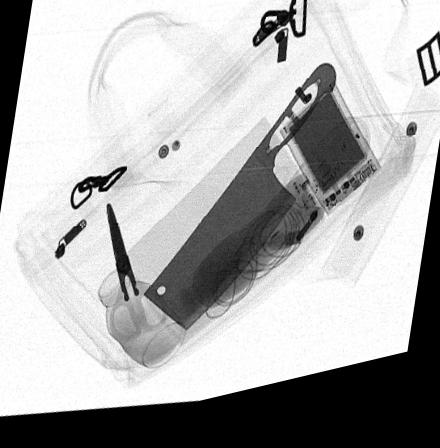Knife: (140, 78, 335, 340)
Powerbank: (278, 98, 383, 231)
Scissors: (104, 205, 166, 347)
